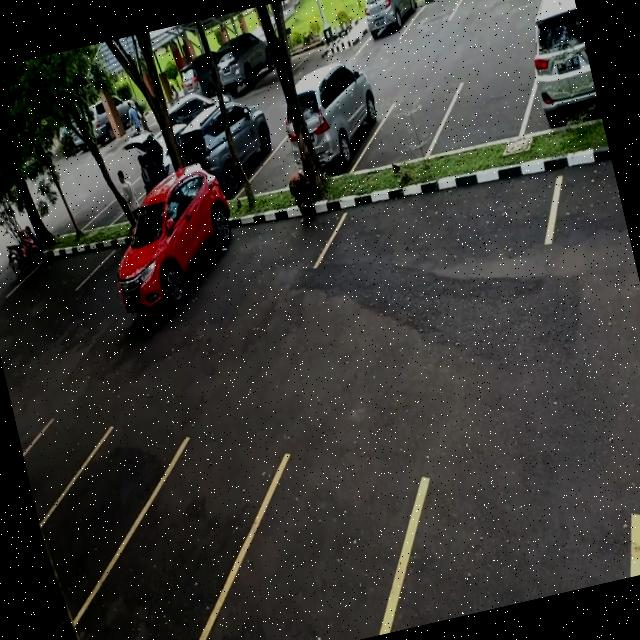empty: (313, 162, 556, 292), (432, 66, 538, 154), (371, 84, 452, 167), (407, 0, 464, 29), (454, 0, 516, 14)
occupied: (292, 59, 388, 180), (515, 30, 601, 131), (355, 0, 418, 46)
